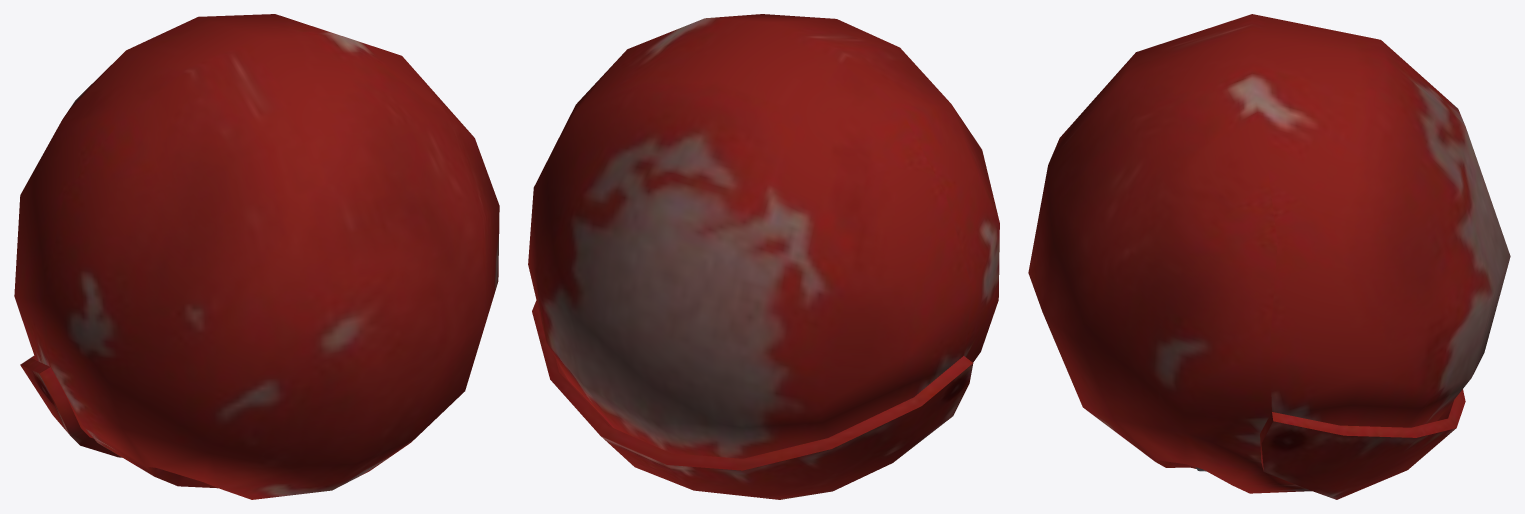
The model's file is murphy_09.obj.
3 views of the same model, side by side, from view 1: azimuth 30°, elevation 25°; view 2: azimuth 150°, elevation 25°; view 3: azimuth 270°, elevation 25° (orthographic). The views are drawn at different scales.
Parts seen in each view (by area): view 1: Object01, Object02; view 2: Object01, Object02; view 3: Object01, Object02.
Part boxes in pixels (x1,y1,x2,y2): Object01: (14, 14, 499, 499); Object02: (20, 356, 121, 457); Object01: (528, 14, 999, 458); Object02: (532, 300, 973, 499); Object01: (1028, 14, 1510, 493); Object02: (1260, 389, 1465, 499).
Bounding box in the file's own units: 20.08 × 19.94 × 19.83.
1 material, 1 textured.
